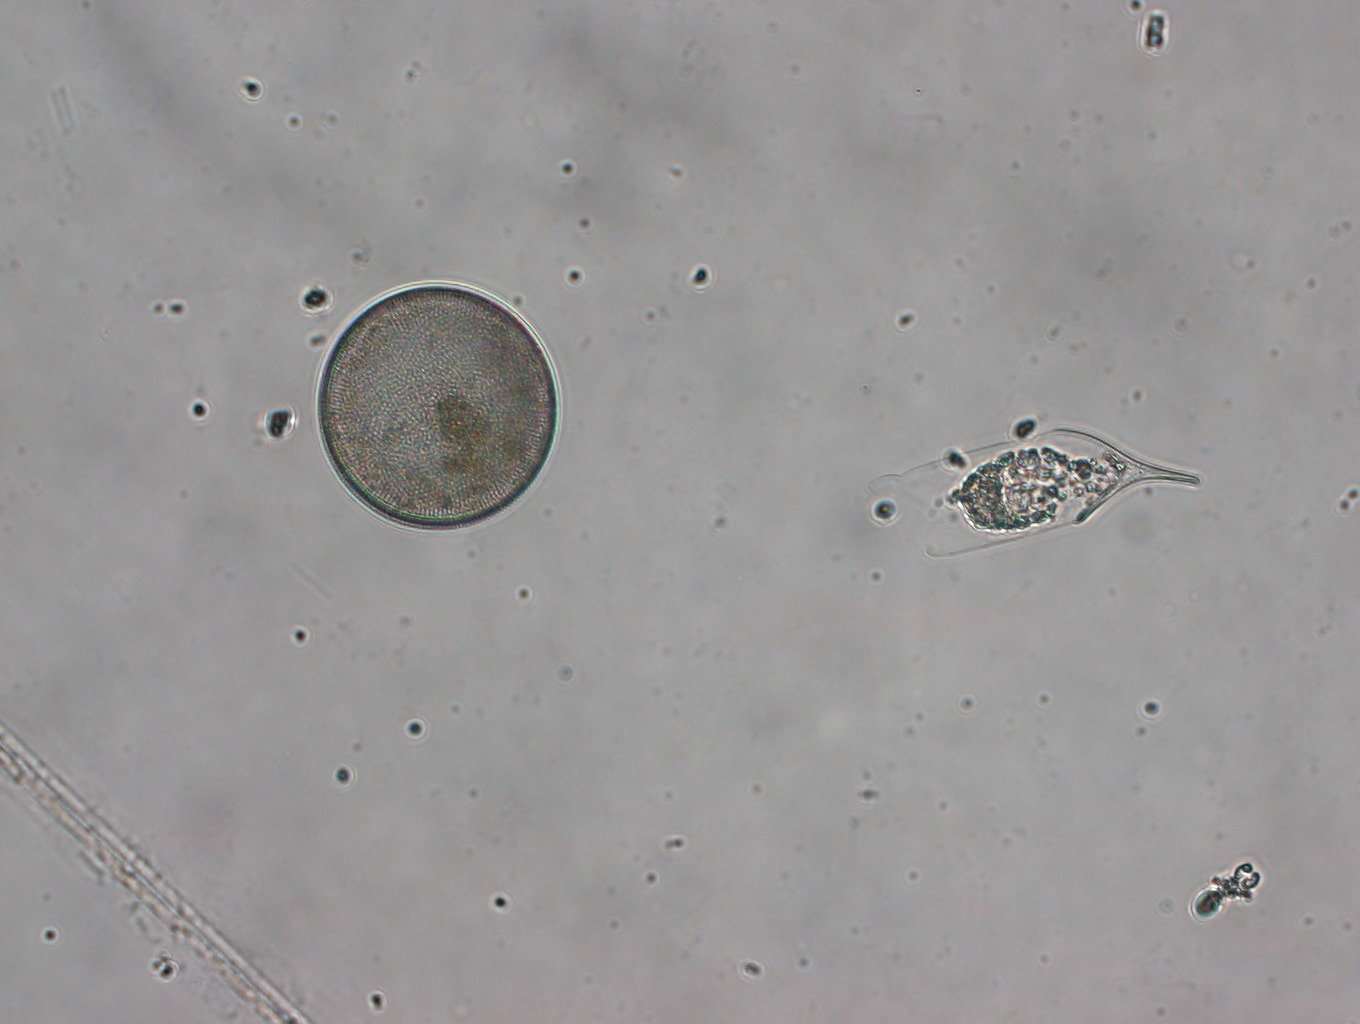coscinodiscus: (313, 282, 560, 534)
rhizosolenia: (879, 429, 1200, 556)
